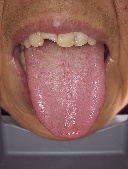tongue: (26, 65, 107, 140)
